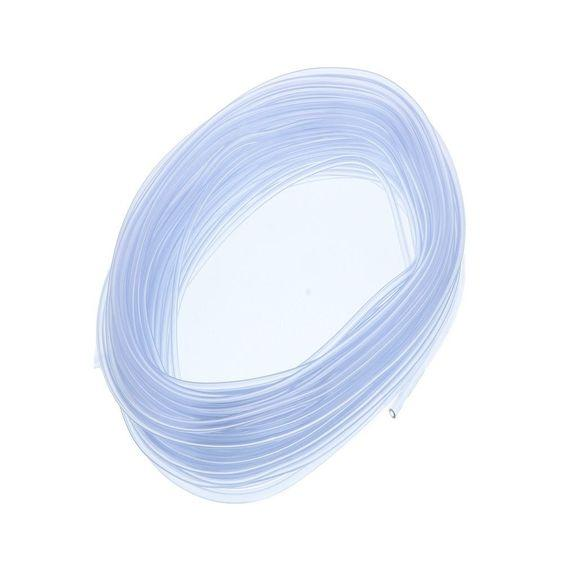PVC: (92, 62, 468, 504)
